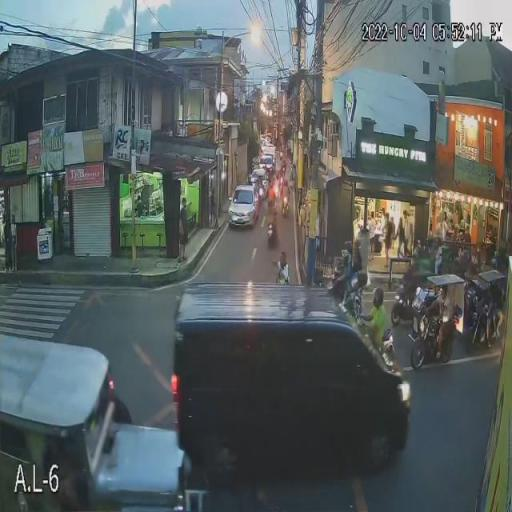helmet: (372, 287, 384, 308), (266, 198, 274, 208), (270, 182, 274, 188), (283, 180, 288, 184)
motorcycle: (383, 330, 398, 366), (267, 222, 277, 246), (340, 250, 351, 265), (282, 196, 289, 218), (269, 188, 275, 199)
rider: (367, 306, 385, 349), (267, 208, 277, 224), (283, 185, 289, 199)
